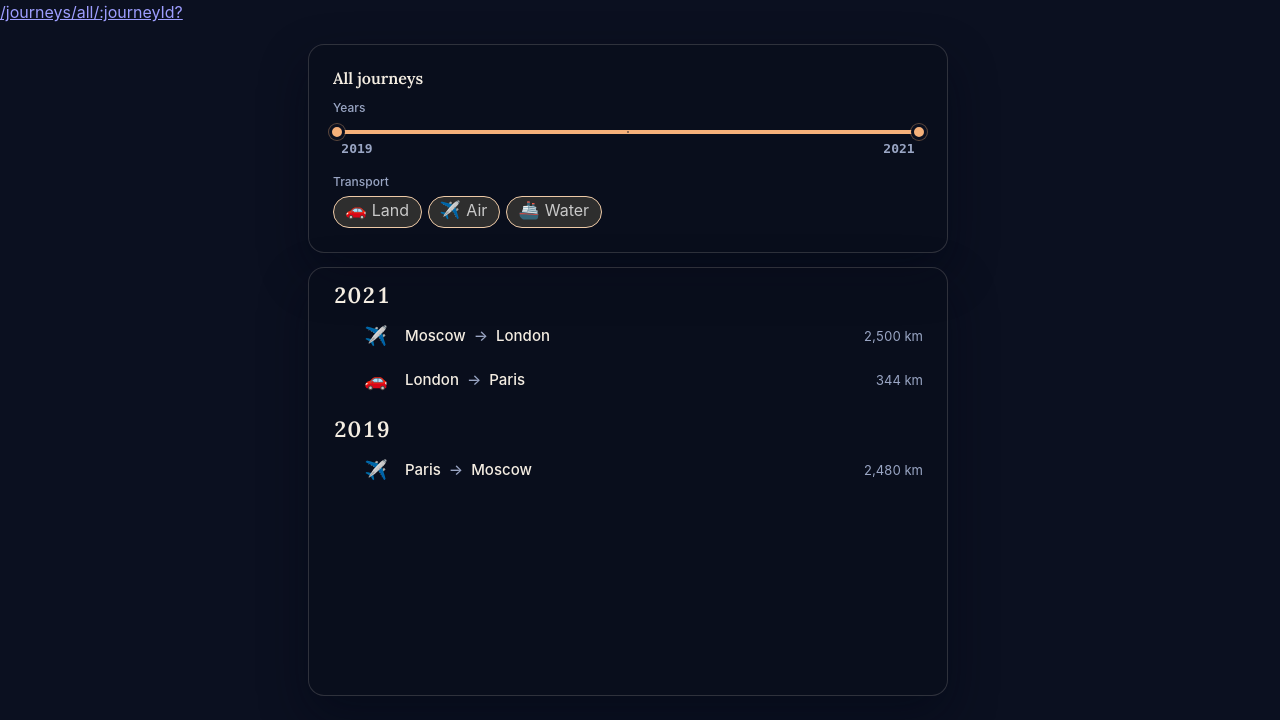
Test: AllJourneysView — правка в карточке поездки › «Undo» сохраняет прежние значения и больше не предлагает отмену
The image size is (1280, 720).
Step 1. Click the link named "Moscow to London" → point(435, 336), box [365, 325, 923, 347]
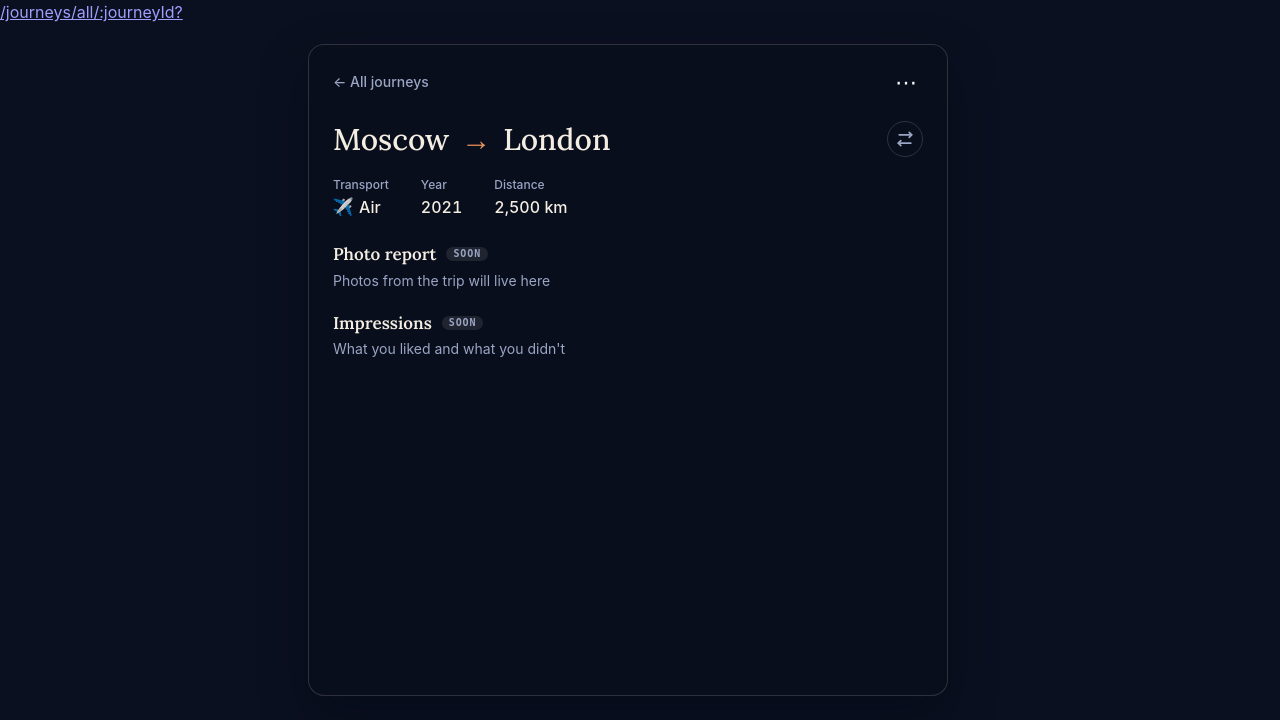
Check: the heading named "Moscow to London" is shown, box [327, 119, 616, 175]
Step 2. Click the button "Air" → point(357, 210), box [327, 194, 387, 225]
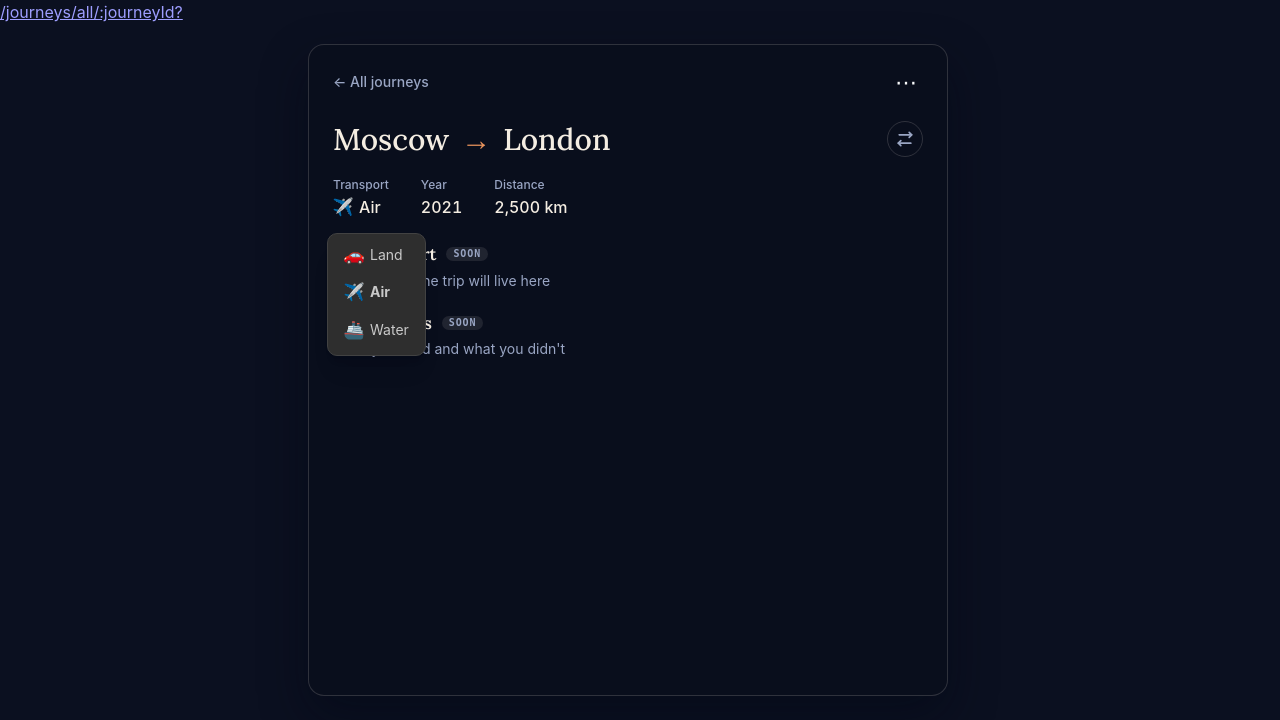
Step 3. Click the menu item "Water" → point(376, 332), box [332, 313, 421, 351]
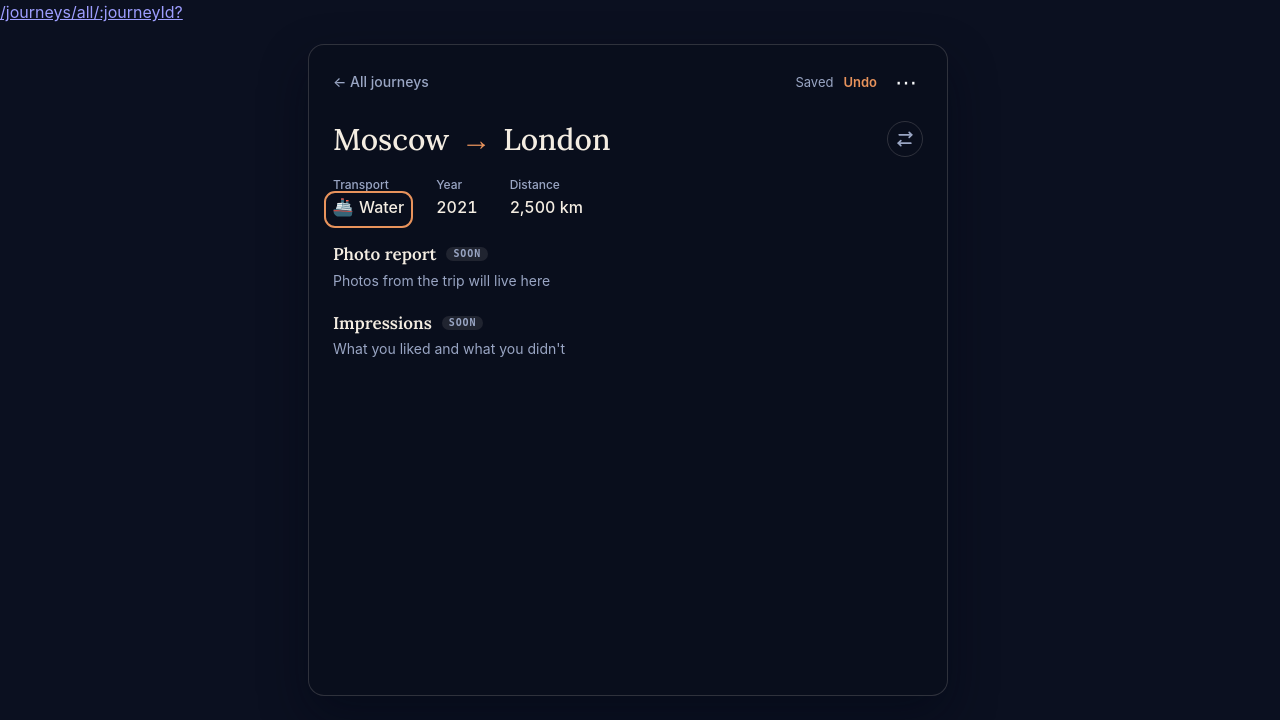
Step 4. Click the button "Undo" → point(860, 82), box [843, 76, 877, 88]
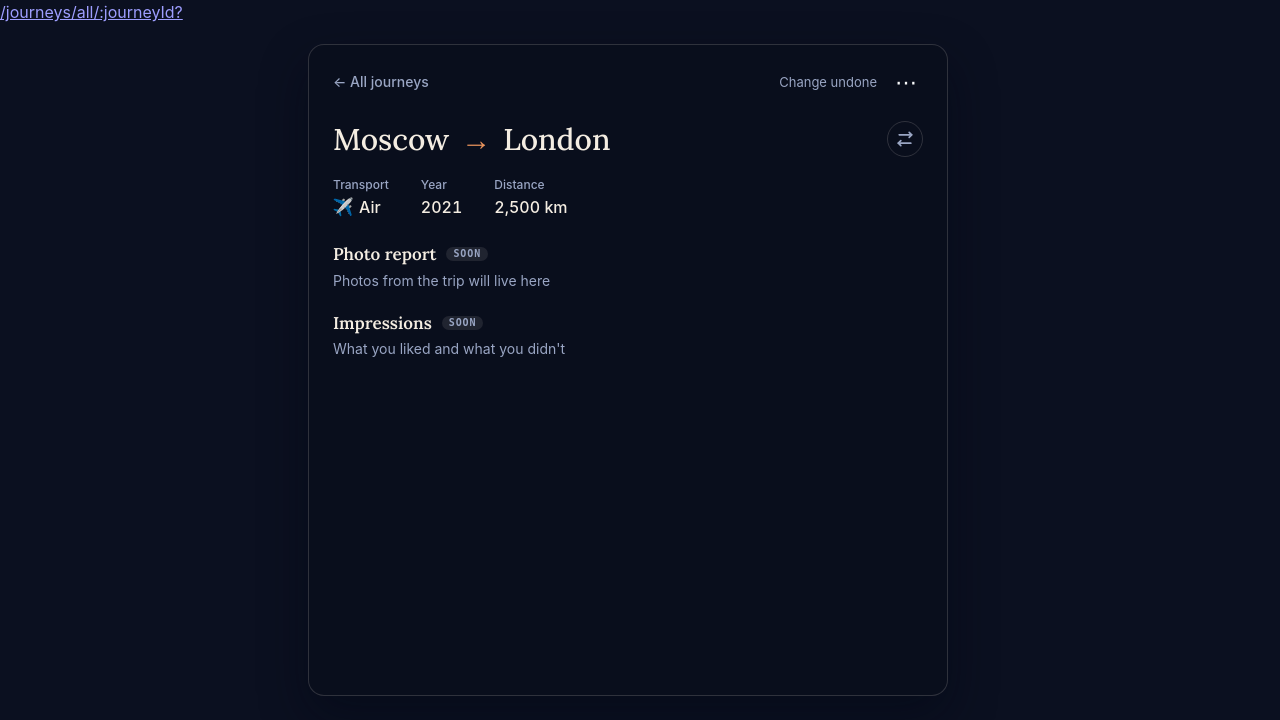
Check: the text "Change undone" is shown, box [779, 76, 877, 88]
Check: the button "Air" is shown, box [327, 194, 387, 225]
